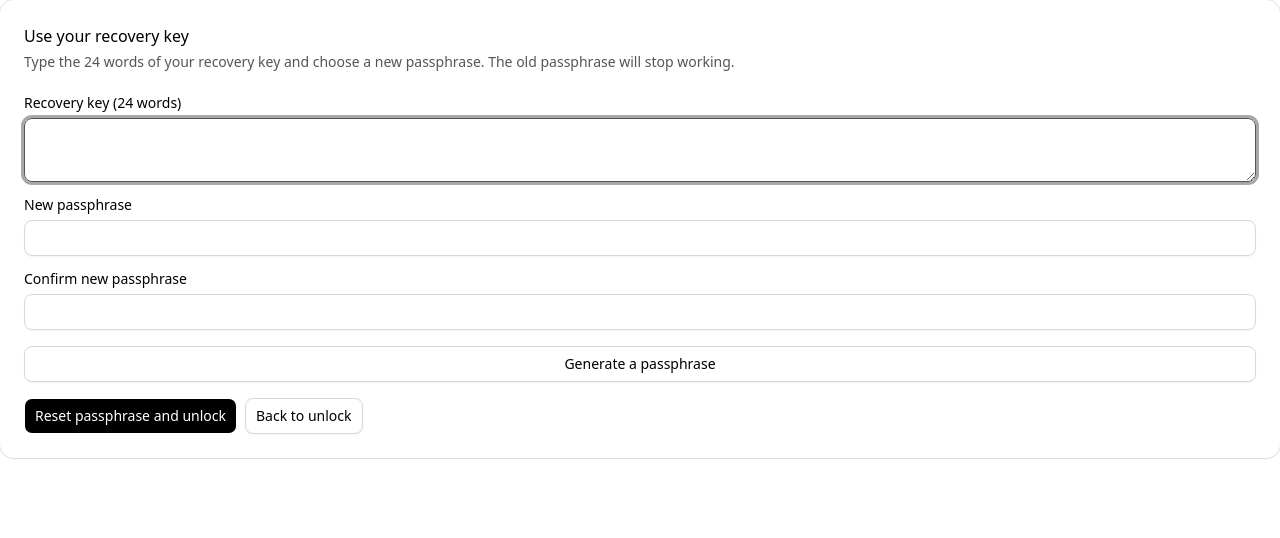
RecoveryUnlockForm › shows which word is wrong and stays on the form
The image size is (1280, 538).
In the text box labelled "Recovery key (24 words)": (640, 150) [24,118,1256,182], type "alpha bravo charlie"
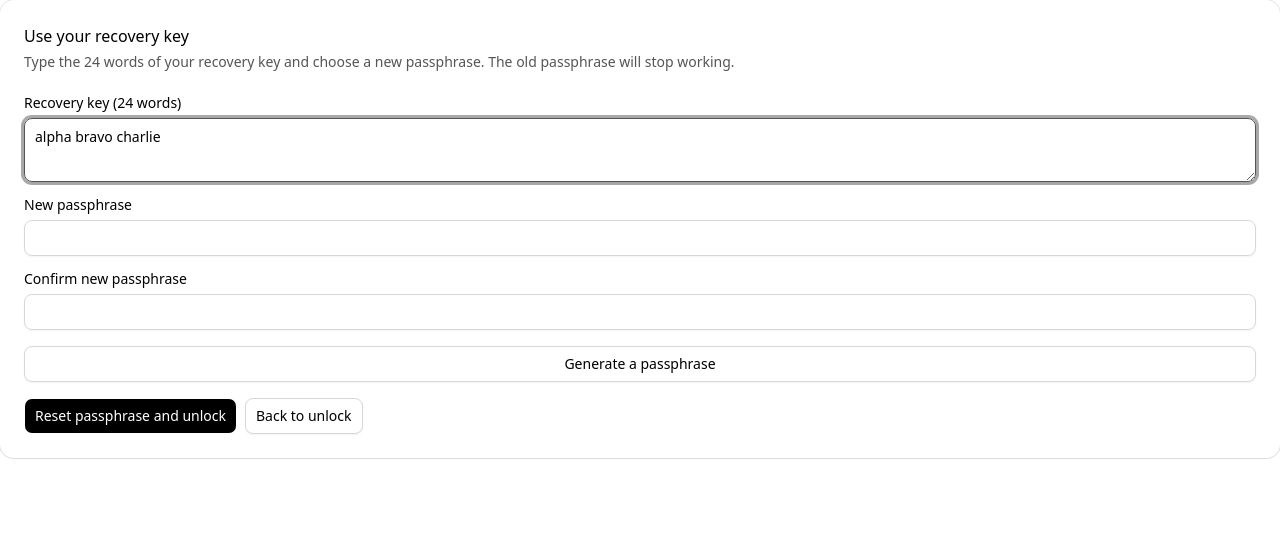
In the password field labelled "New passphrase": (640, 238) [24,220,1256,256], type "a brand new passphrase"
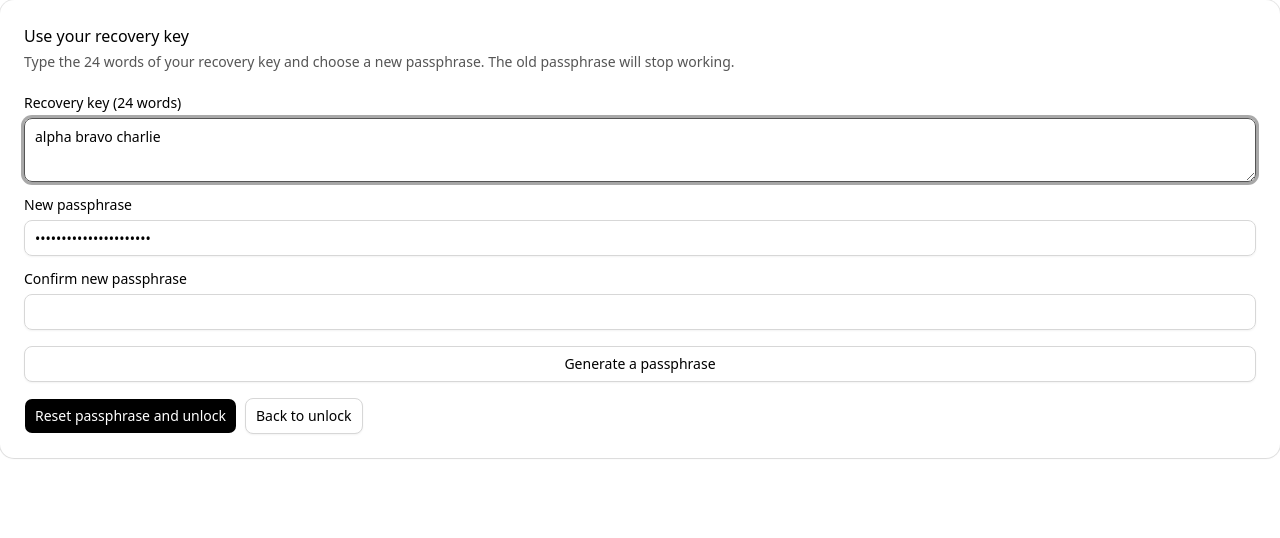
In the password field labelled "Confirm new passphrase": (640, 312) [24,294,1256,330], type "a brand new passphrase"
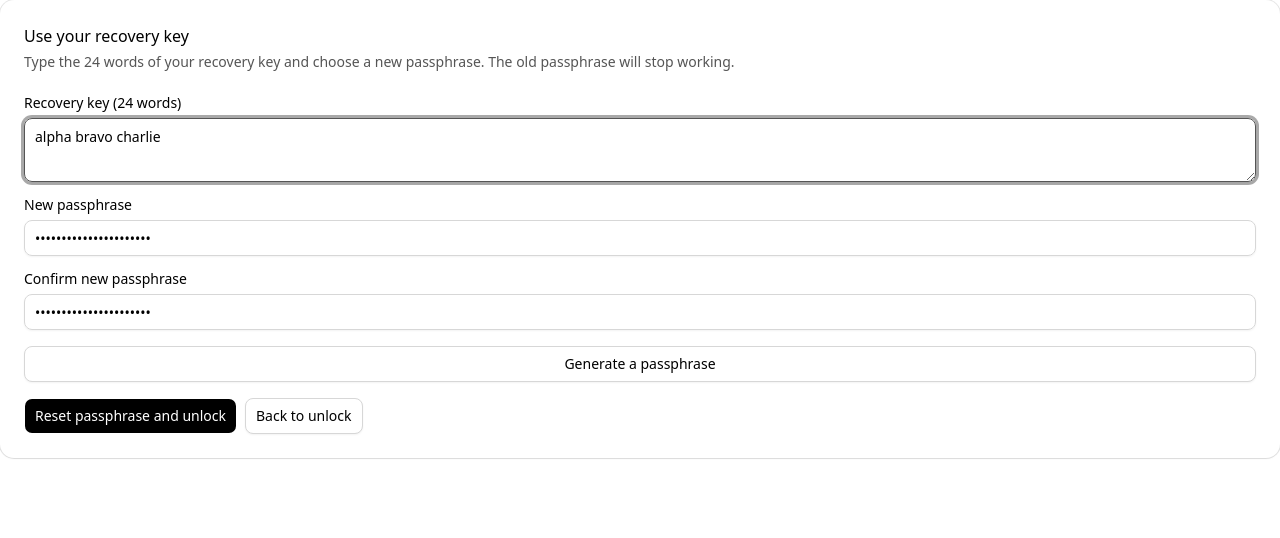
Click the button "Reset passphrase and unlock": (130, 416) [24,398,237,434]
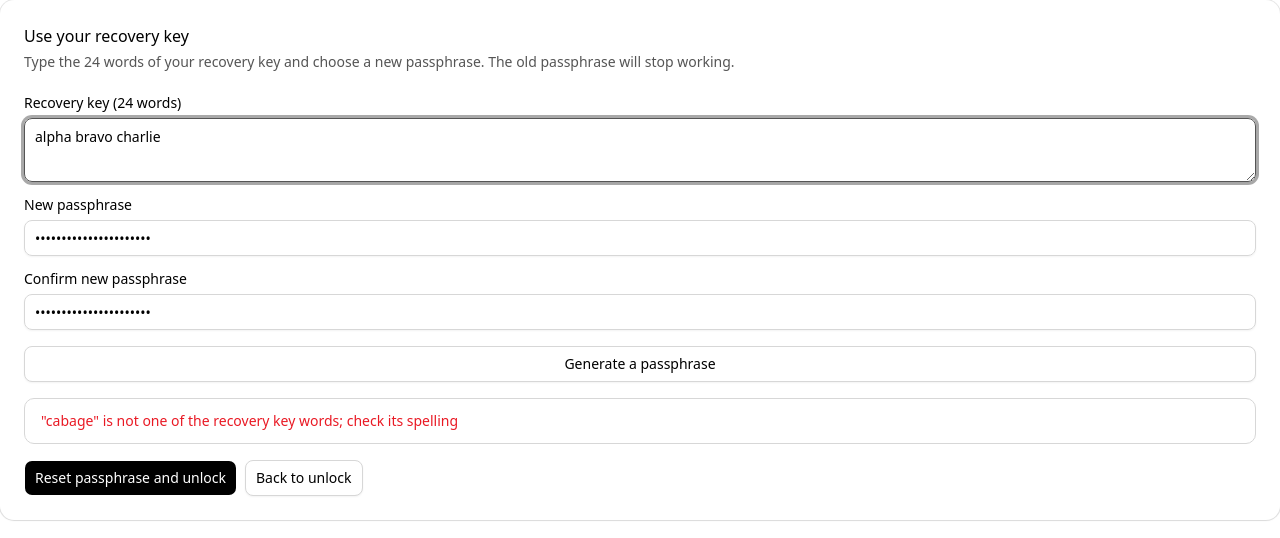
Now the text "\"cabage\" is not one of the recovery key words" is shown, box [41,411,458,430]
